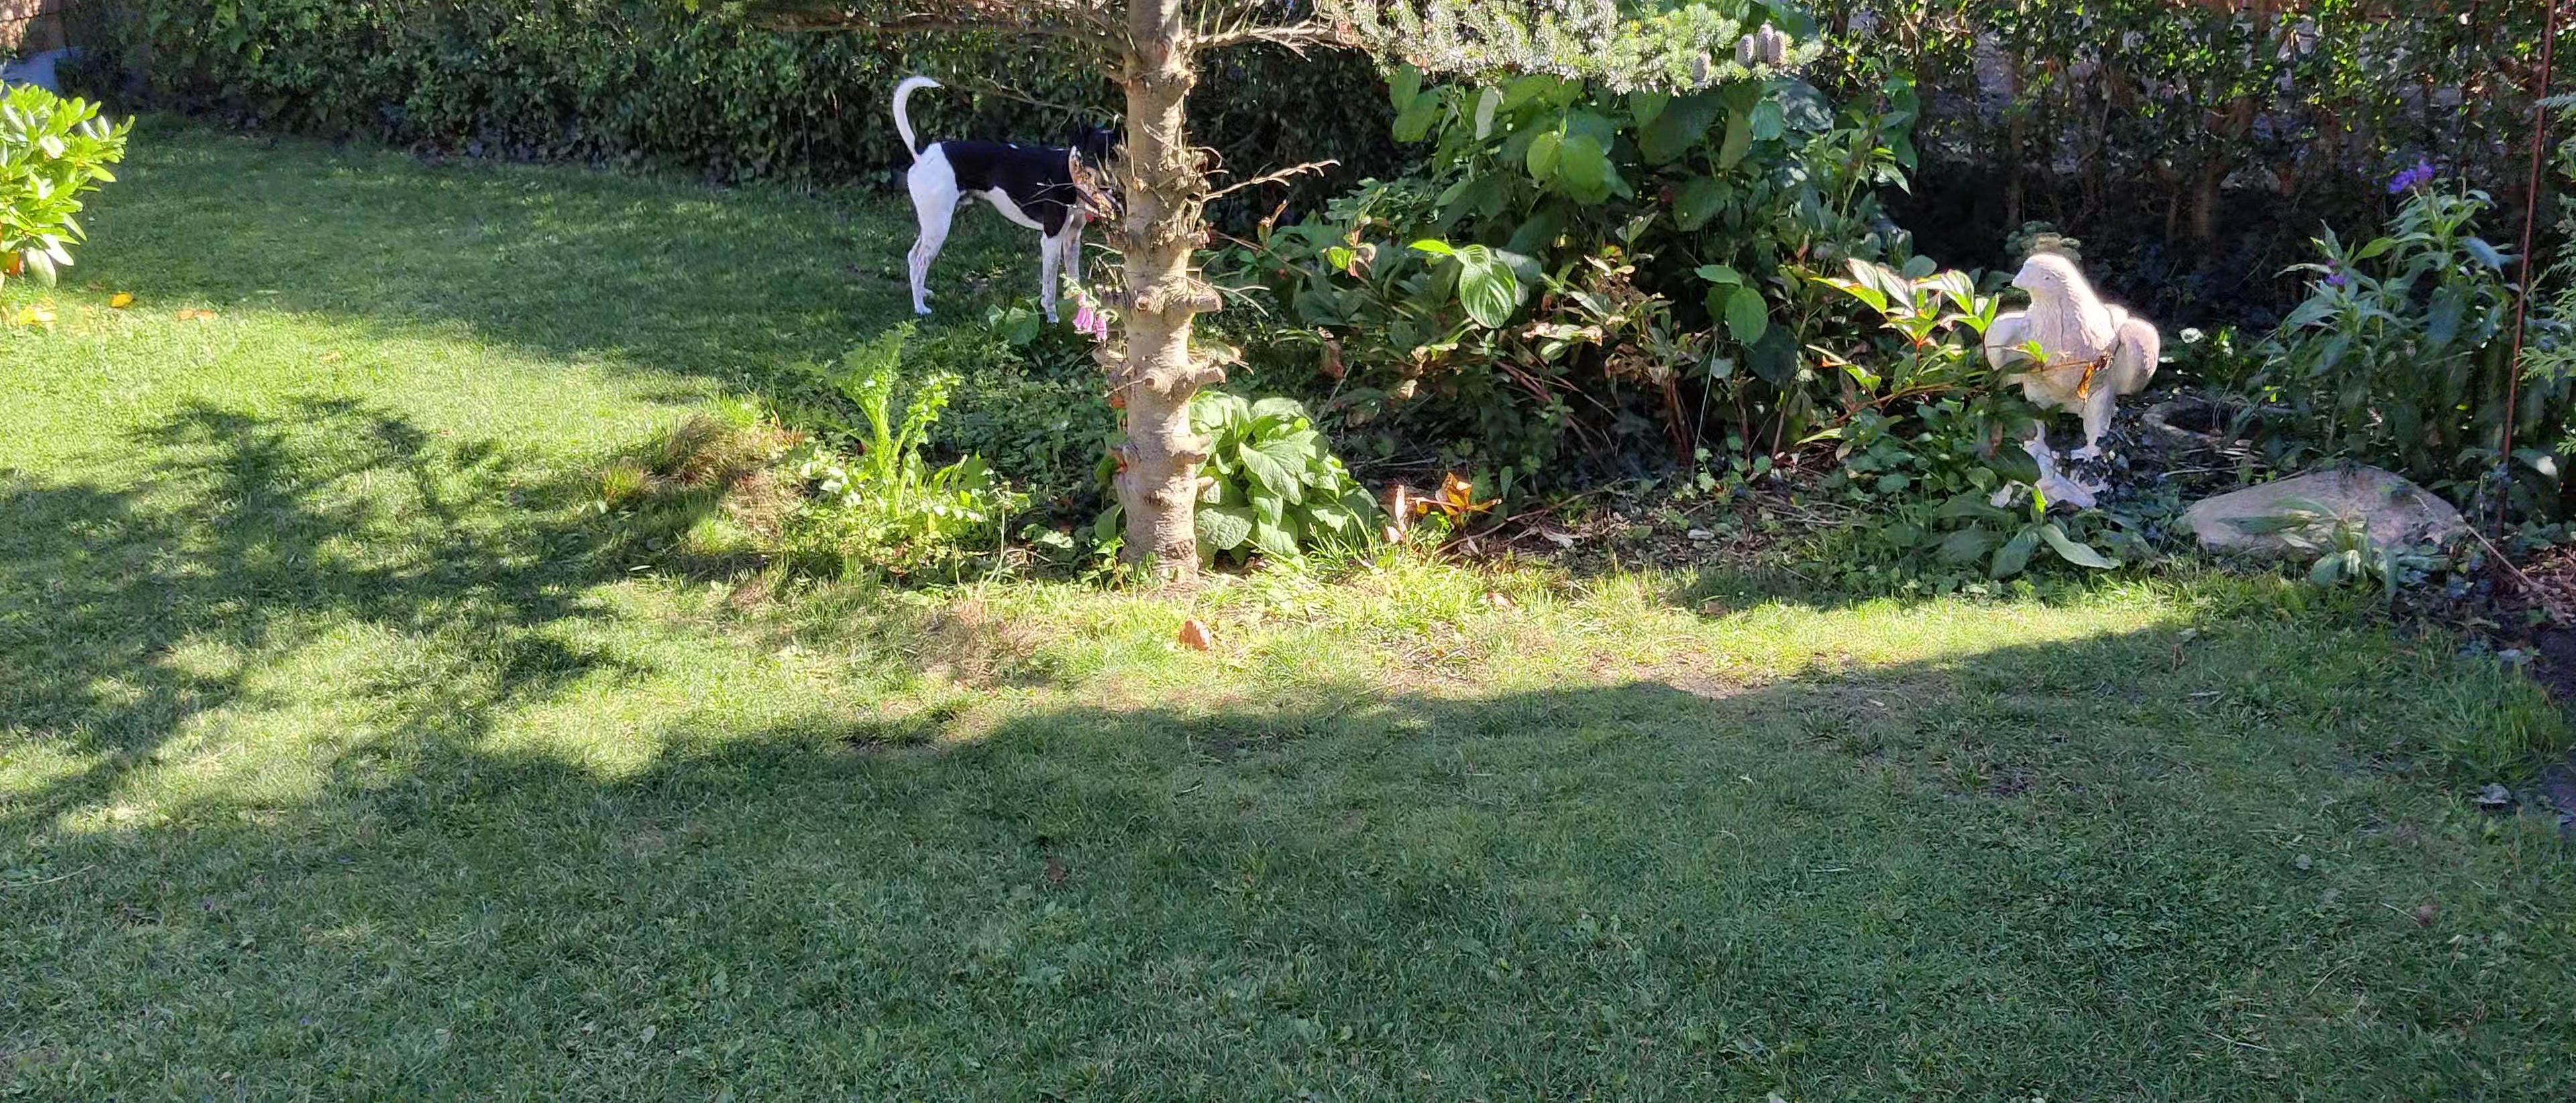Dog: (879, 69, 1138, 330)
